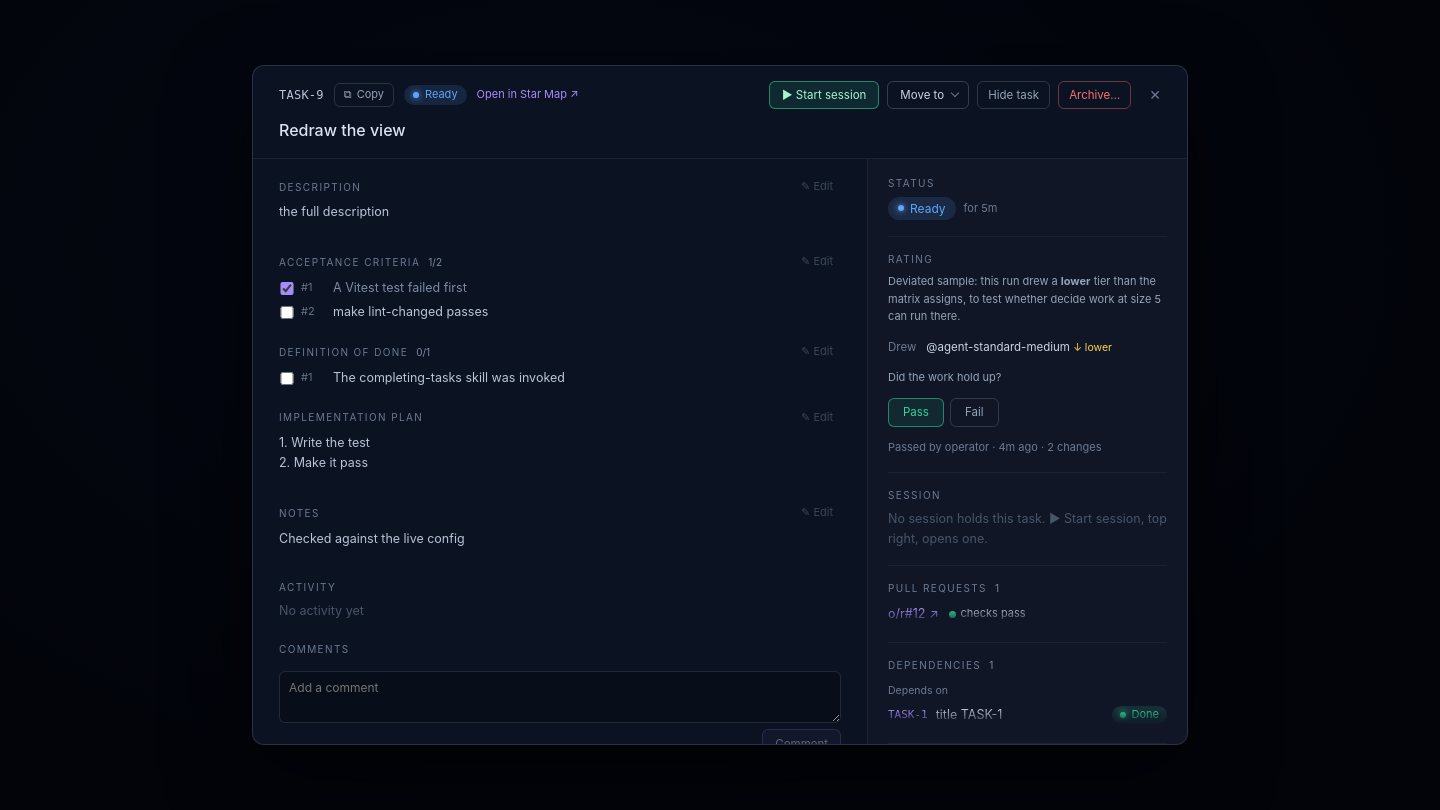
Test: the Rating section of the task view › answers a refused write with the Rating not saved line and keeps the rating it had
What coordinates should you click on to do the following:
click the button "Fail"
I would click on:
 (974, 412)
Its box is [950,398,998,427].
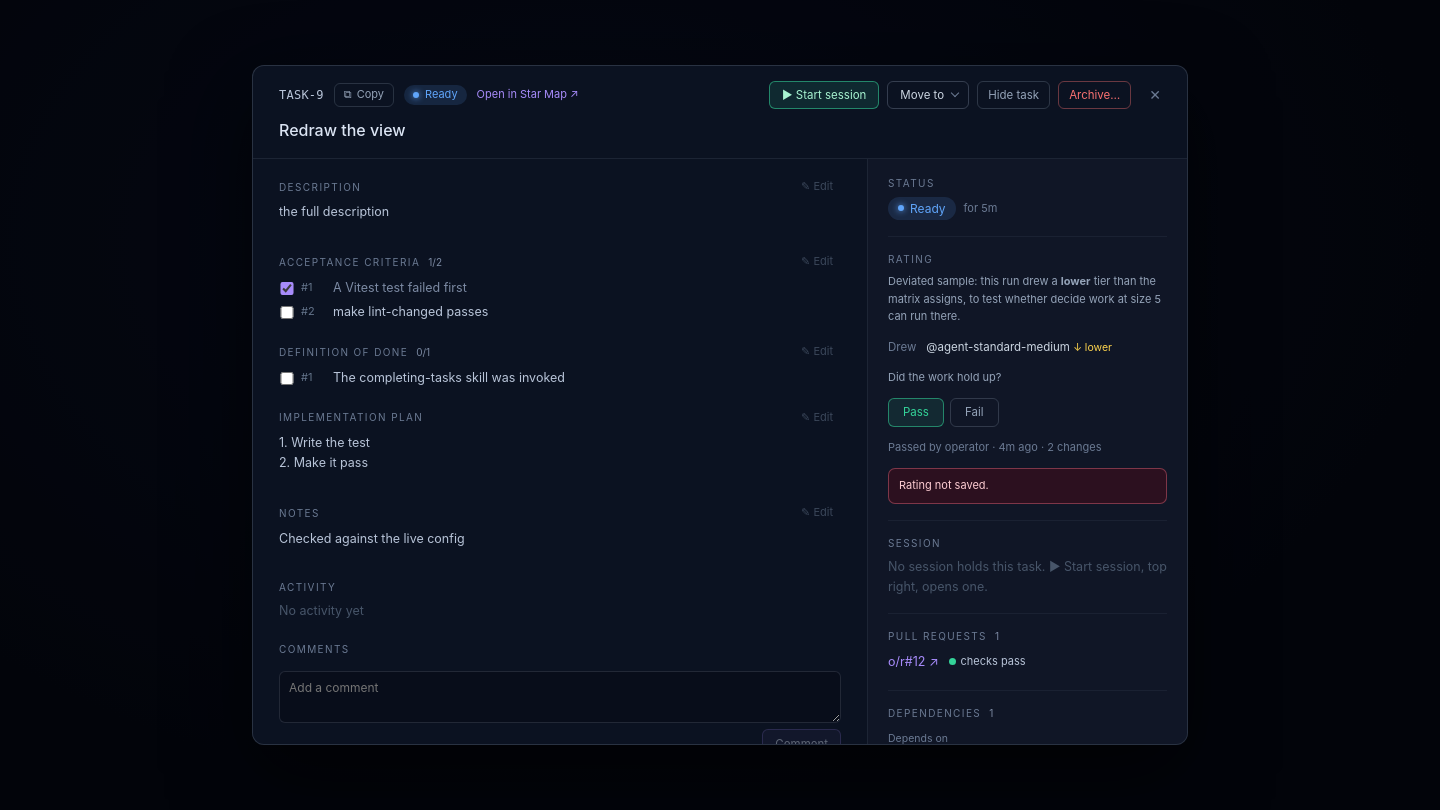
Now the message with class "editrefusal" reads "Rating not saved.", box [899,478,989,492]
